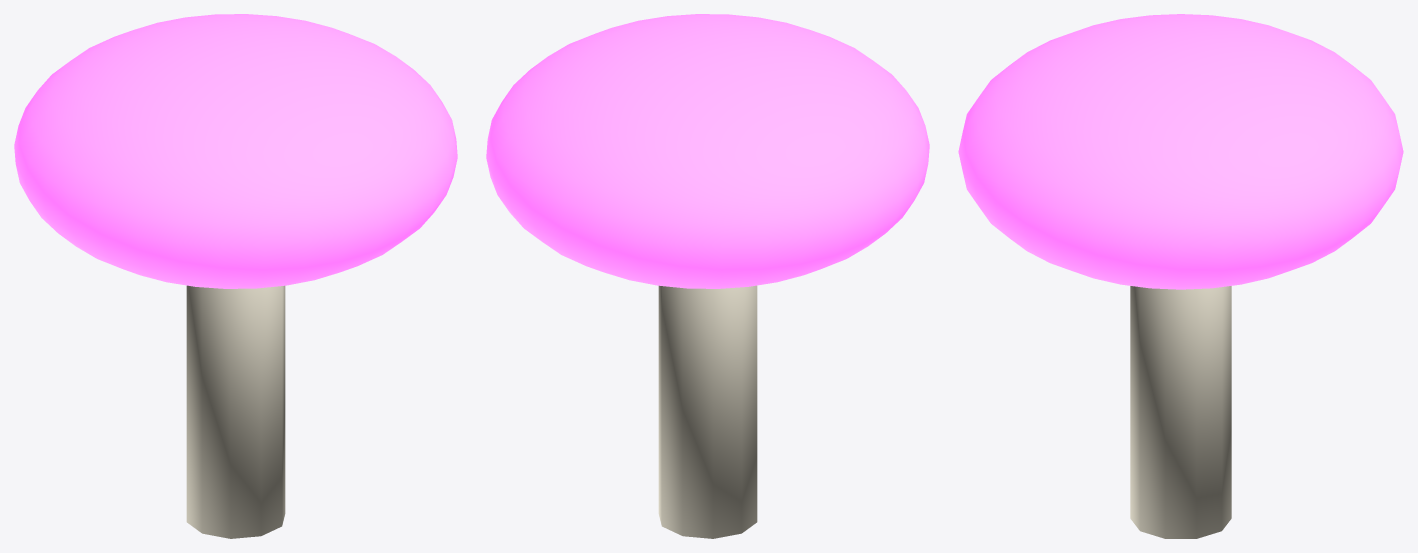
File: mushroom.glb
The picture shows the model from 3 angles, left to right: view 1: azimuth 30°, elevation 25°; view 2: azimuth 150°, elevation 25°; view 3: azimuth 270°, elevation 25°; orthographic projection.
Parts seen in each view (by area): view 1: mushroom; view 2: mushroom; view 3: mushroom.
Boxes of the visible parts, box(x1,y1,x2,y2) form: mushroom: box(14, 14, 457, 538); mushroom: box(486, 14, 929, 538); mushroom: box(958, 14, 1403, 538).
Bounding box in the file's own units: 2.2 × 2.55 × 2.2.
